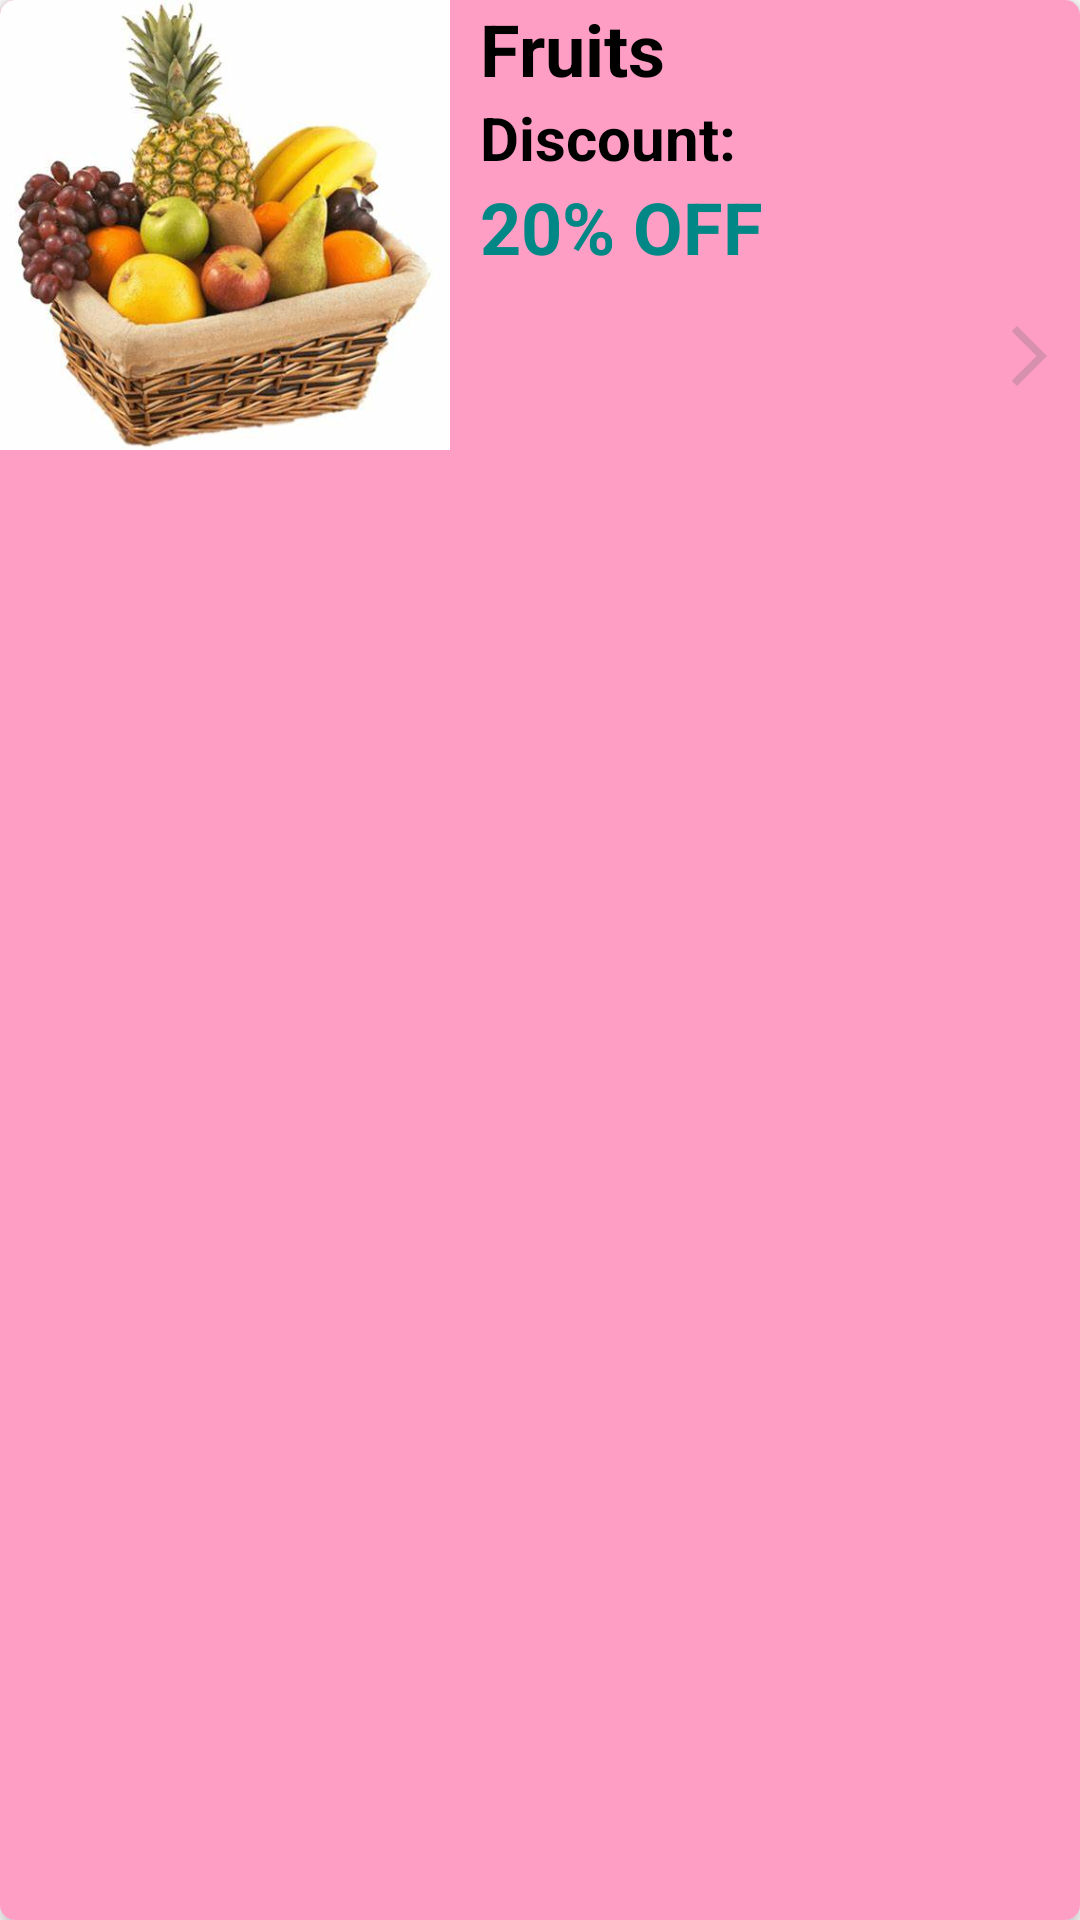

Named icons in this screenshot (1080 × 1920) and their centers, (x=x, y=y):
arrow forward: (x=1029, y=356)
